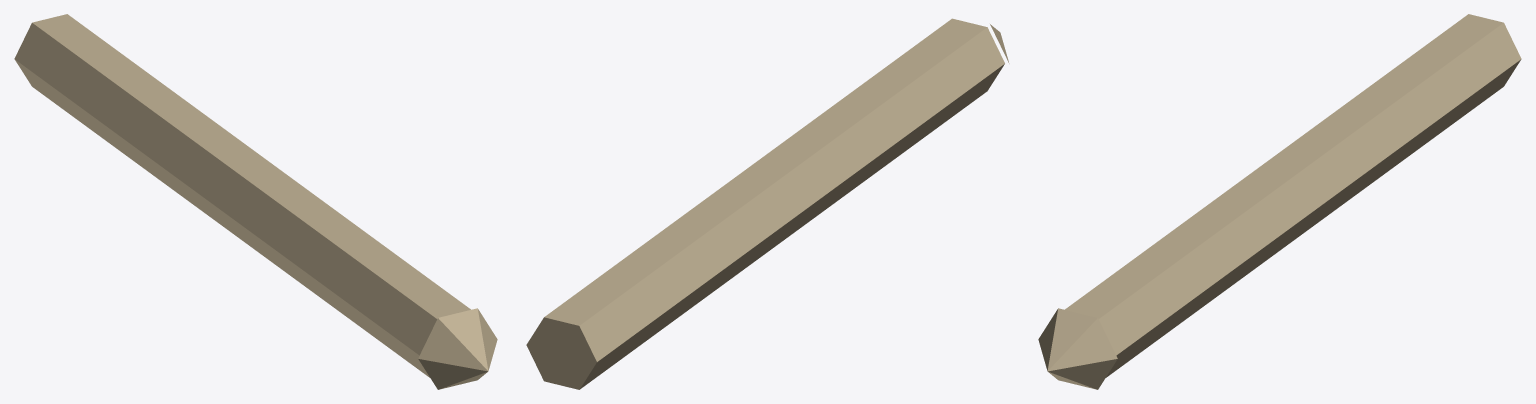
File: fence_post.glb
The picture shows the model from 3 angles, left to right: view 1: azimuth 30°, elevation 25°; view 2: azimuth 150°, elevation 25°; view 3: azimuth 330°, elevation 25°; orthographic projection.
Parts seen in each view (by area): view 1: geometry_0; view 2: geometry_0; view 3: geometry_0.
Boxes of the visible parts, bbox=[...] form: geometry_0: bbox=[14, 14, 497, 389]; geometry_0: bbox=[526, 18, 1009, 389]; geometry_0: bbox=[1038, 14, 1521, 389].
Bounding box in the file's own units: 0.09 × 0.0779 × 0.86.
